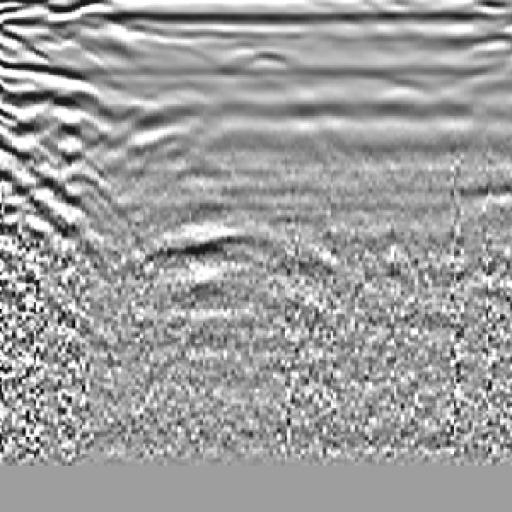non-metallic: (1, 30, 109, 312)
